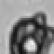correct: (4, 10, 54, 54)
